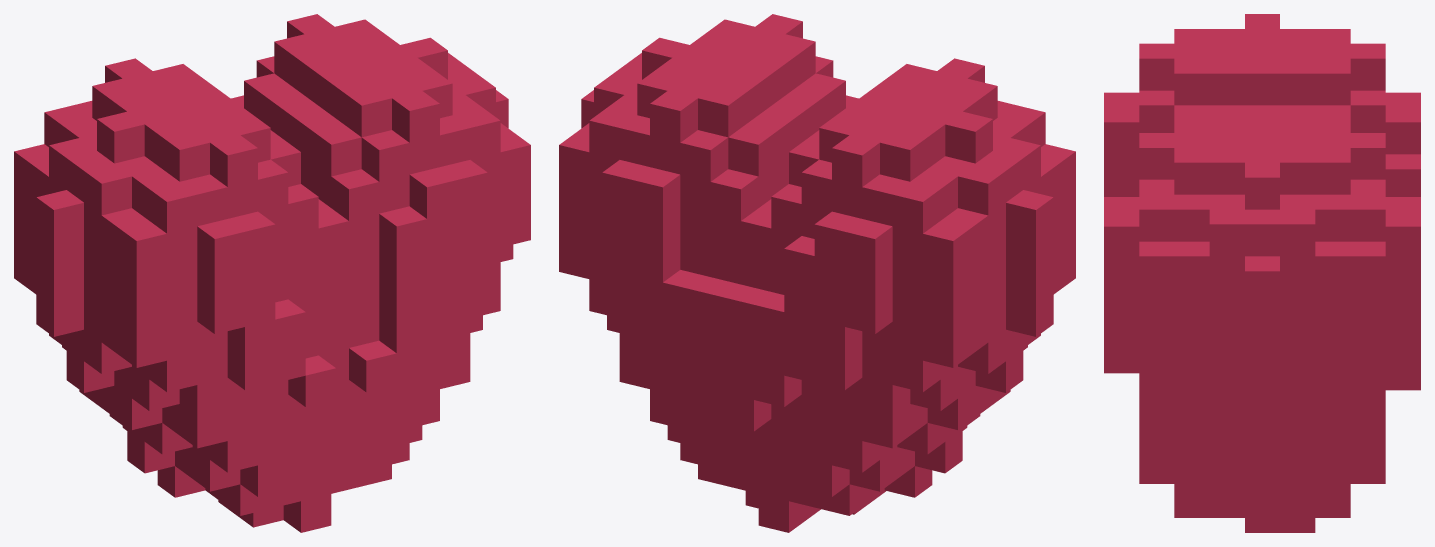
The model's file is health prefab.fbx.
The picture shows the model from 3 angles, left to right: view 1: azimuth 30°, elevation 25°; view 2: azimuth 150°, elevation 25°; view 3: azimuth 270°, elevation 25°; orthographic projection.
Visible parts, largest first — view 1: Cube; view 2: Cube; view 3: Cube.
Part boxes in pixels (<box>): Cube: <box>14,14,530,532</box>; Cube: <box>559,14,1075,532</box>; Cube: <box>1104,14,1420,532</box>.
Size of the model in its own units: 355 by 308 by 213.
